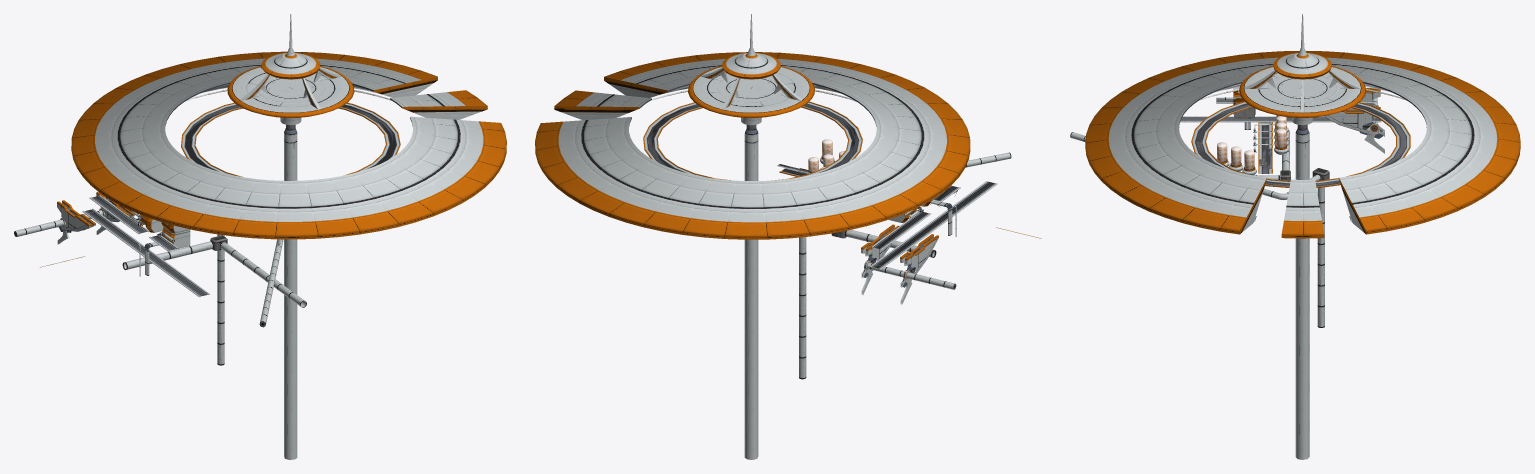
Rendered from stg210_13.obj.
3 views of the same model, side by side, from view 1: azimuth 30°, elevation 25°; view 2: azimuth 150°, elevation 25°; view 3: azimuth 270°, elevation 25° (orthographic).
Visible parts, largest first — view 1: polygon3, polygon2, polygon235, polygon236, polygon237, polygon136, polygon99, polygon135, polygon98, polygon118, polygon93, polygon110 (+3 smaller); view 2: polygon3, polygon2, polygon235, polygon236, polygon237, polygon99, polygon136, polygon135, polygon118, polygon137, polygon139, polygon109 (+1 smaller); view 3: polygon3, polygon2, polygon235, polygon236, polygon237, polygon136, polygon135, polygon99, polygon137, polygon139, polygon244.
Part boxes in pixels (x1,y1,x2,y2): polygon3: [95, 58, 483, 221]; polygon2: [71, 51, 506, 239]; polygon235: [232, 14, 348, 459]; polygon236: [246, 53, 335, 149]; polygon237: [227, 53, 354, 117]; polygon136: [181, 102, 400, 176]; polygon99: [217, 234, 224, 365]; polygon135: [185, 105, 396, 170]; polygon98: [219, 242, 306, 307]; polygon118: [85, 209, 206, 295]; polygon93: [122, 241, 214, 270]; polygon110: [260, 239, 283, 323]; polygon3: [558, 58, 946, 222]; polygon2: [535, 52, 970, 239]; polygon235: [693, 14, 809, 459]; polygon236: [707, 53, 795, 149]; polygon237: [688, 53, 814, 117]; polygon99: [799, 237, 806, 379]; polygon136: [643, 101, 862, 180]; polygon135: [647, 104, 858, 172]; polygon118: [873, 182, 994, 268]; polygon137: [646, 103, 859, 173]; polygon139: [645, 103, 860, 174]; polygon109: [867, 262, 954, 289]; polygon3: [1108, 57, 1497, 232]; polygon2: [1085, 51, 1520, 238]; polygon235: [1244, 14, 1360, 459]; polygon236: [1258, 53, 1346, 149]; polygon237: [1239, 53, 1366, 117]; polygon136: [1191, 101, 1410, 187]; polygon135: [1195, 103, 1406, 185]; polygon99: [1317, 187, 1324, 327]; polygon137: [1194, 103, 1407, 186]; polygon139: [1193, 103, 1408, 182]; polygon244: [1328, 112, 1375, 131].
Bounding box in the file's own units: 4337 × 4010 × 3697.
29 materials, 29 textured.
